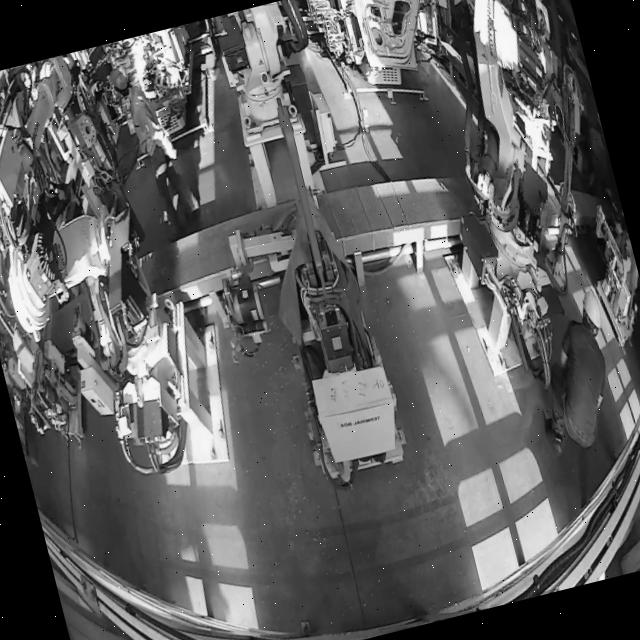Person: (518, 288, 632, 458), (107, 54, 206, 246)
